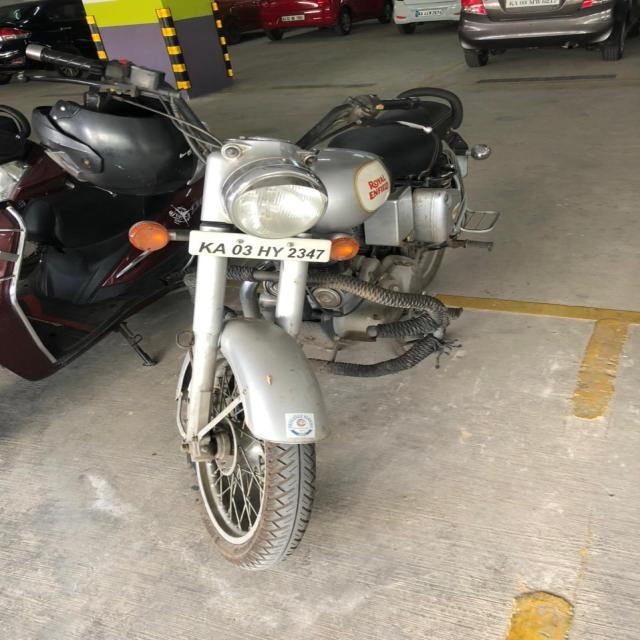number plate: (186, 229, 332, 263)
